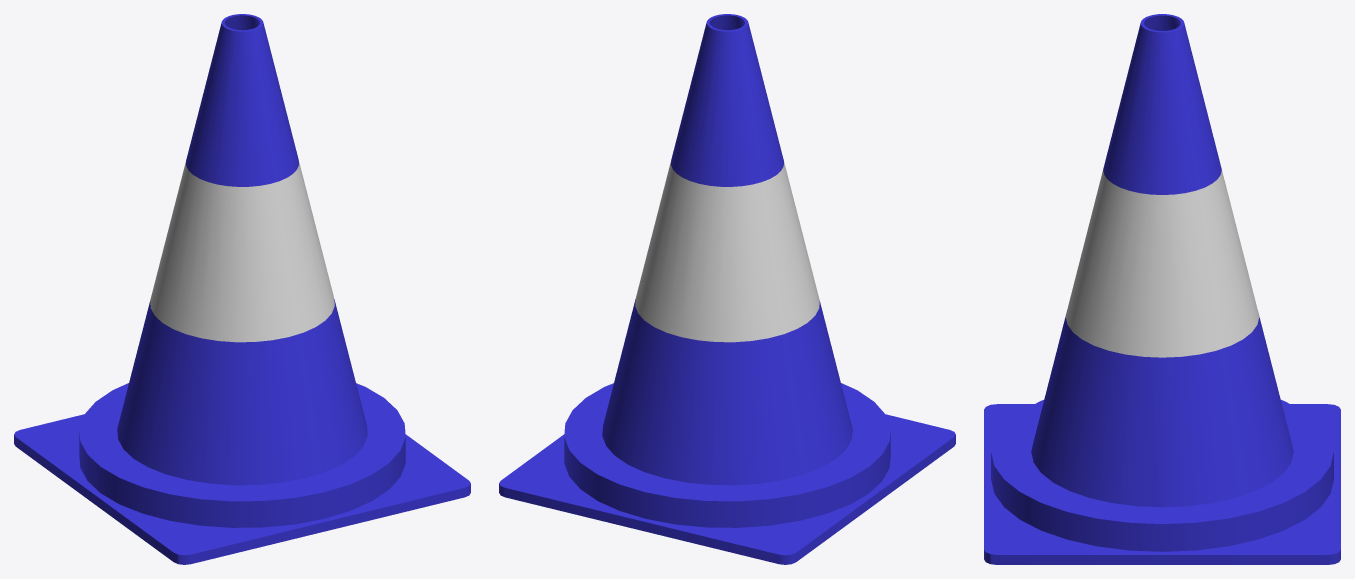
File: SmallCone_blue.fbx
3 renders of one model, left to right at view 1: azimuth 30°, elevation 25°; view 2: azimuth 150°, elevation 25°; view 3: azimuth 270°, elevation 25°, orthographic. The views are drawn at different scales.
Parts seen in each view (by area): view 1: Cylinder; view 2: Cylinder; view 3: Cylinder.
Part boxes in pixels (x1=…): Cylinder: x1=14, y1=14, x2=470, y2=564; Cylinder: x1=499, y1=14, x2=955, y2=564; Cylinder: x1=984, y1=14, x2=1340, y2=564.
Size of the model in its own units: 45.6 by 65.74 by 45.6.
